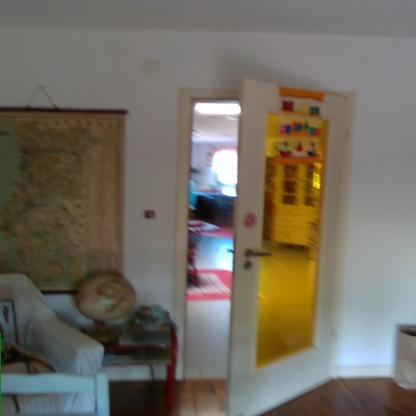semi: (174, 79, 334, 416)
